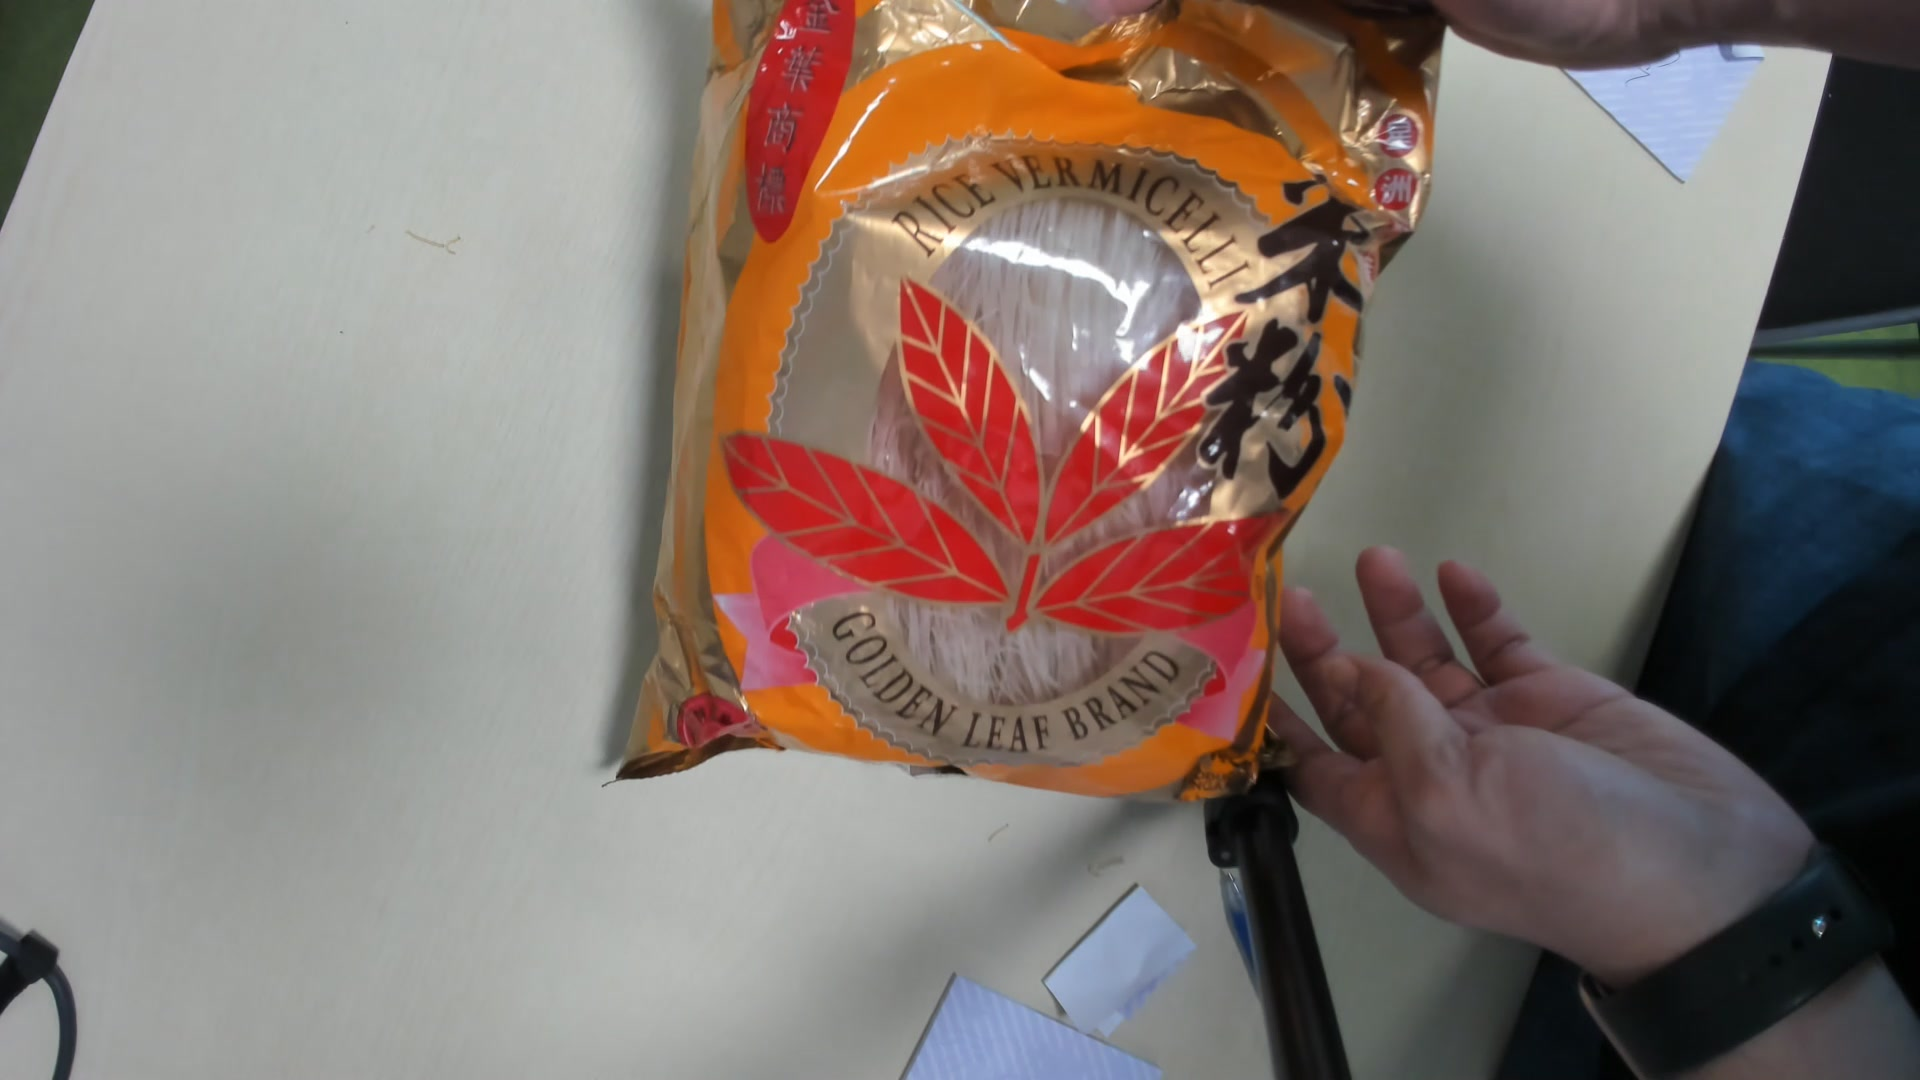OtherNoodles_400-499g_Halal_NonHealthy: (630, 3, 1439, 812)
